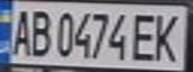0: (51, 7, 75, 58)
4: (106, 9, 133, 62), (72, 8, 93, 59)
7: (90, 9, 109, 60)
A: (6, 5, 33, 57)
B: (27, 6, 54, 57)
E: (127, 9, 160, 63)
K: (148, 9, 187, 63)
